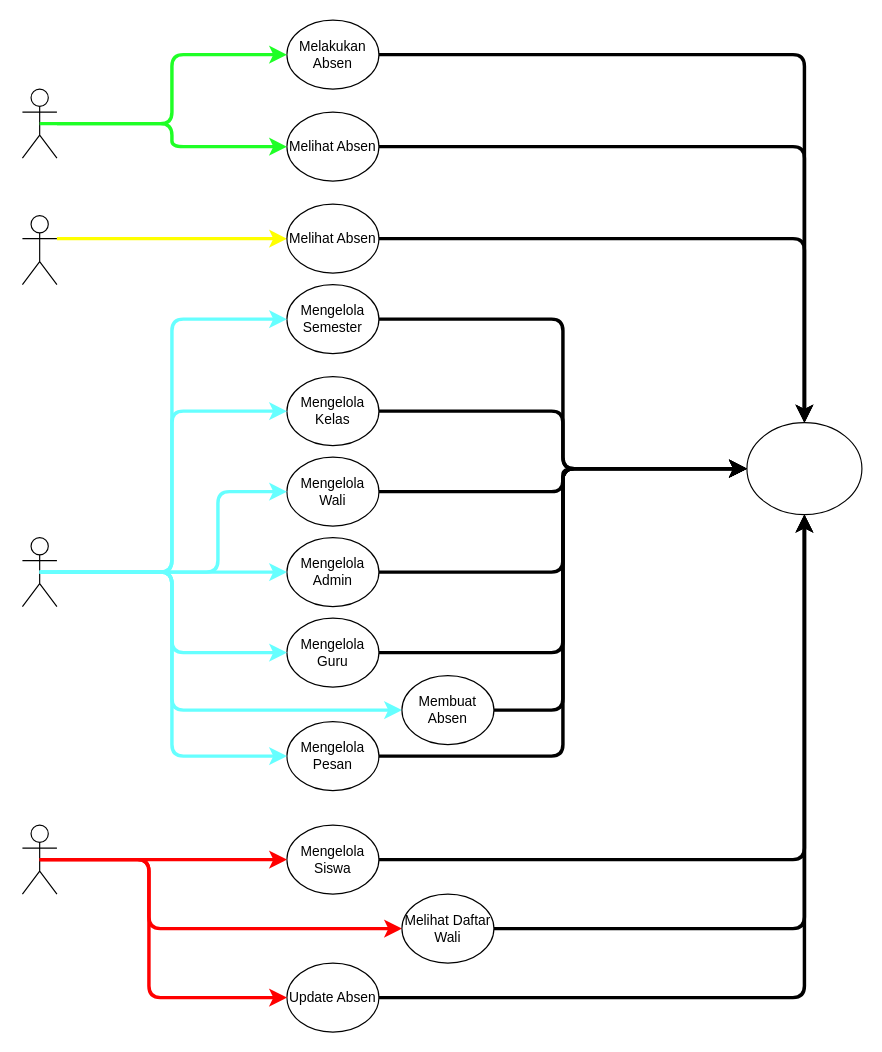
This 882x1052 diagram has some shape labels left out. The shapes that lost their labels are listed below. From the top down, each one's box as (x1, y1, x2, y2) in pixels, then its label:
(21, 88, 57, 158): Siswa
(21, 214, 57, 285): Wali
(746, 421, 862, 515): LOGIN
(21, 536, 57, 607): Admin
(21, 824, 57, 894): Guru
